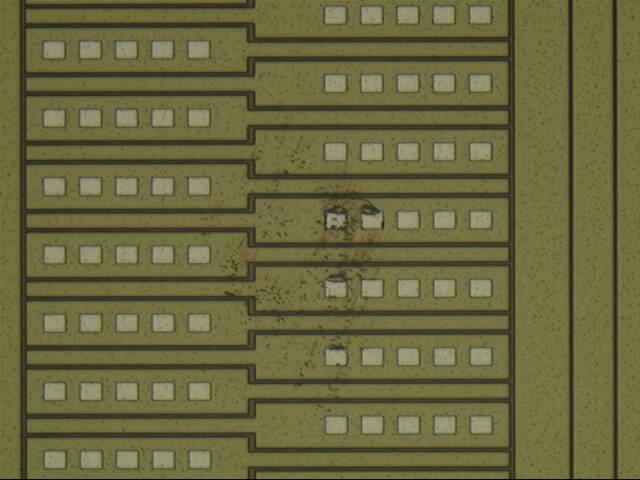PO CONTAMINATION: (78, 1, 393, 448)
